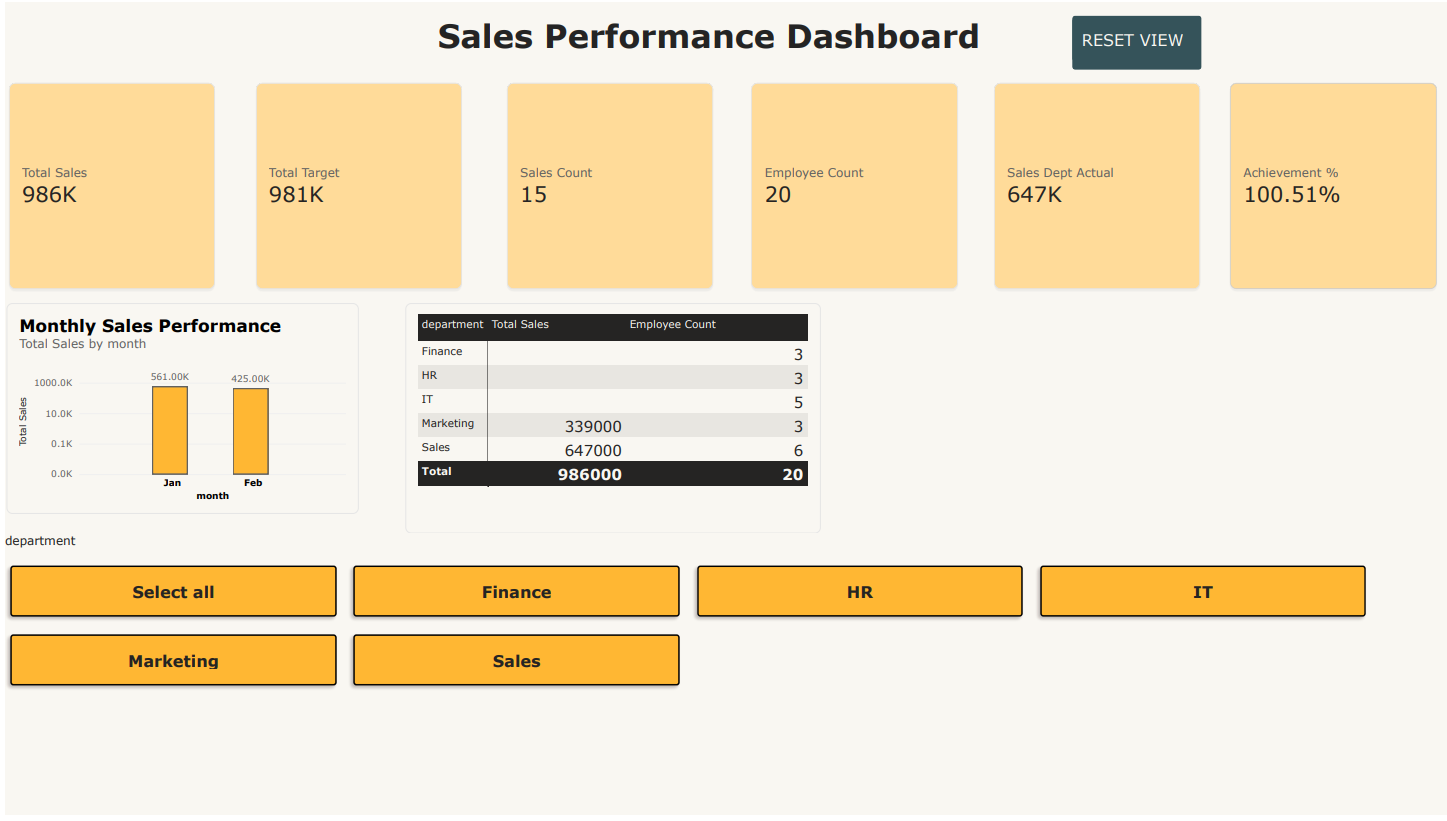

Layout of this report page (visuals, bound fields, positions):
{"tool":"powerbi","page":{"name":"Page 1","canvas":[1920,1080],"ordinal":0},"visuals":[{"type":"cardVisual","fields":{"Data":["sales.Total Sales"]},"box":[1.8,103.6,280,280],"z":0},{"type":"cardVisual","fields":{"Data":["sales.Total Target"]},"box":[330.4,103.6,280,280],"z":1000},{"type":"cardVisual","fields":{"Data":["sales.Sales Count"]},"box":[664.3,103.6,280,280],"z":2000},{"type":"cardVisual","fields":{"Data":["employees.Employee Count"]},"box":[989.3,103.6,280.5,280.5],"z":3000},{"type":"cardVisual","fields":{"Data":["sales.Achievement %"]},"box":[1625,103.6,280,280],"z":4000},{"type":"cardVisual","fields":{"Data":["sales.Sales Dept Actual"]},"box":[1310.7,103.6,280,280],"z":5000},{"type":"clusteredColumnChart","title":"Monthly Sales Performance","fields":{"Category":["sales.month"],"Y":["sales.Total Sales"]},"box":[1.8,400,468.7,280.5],"z":6000},{"type":"pivotTable","fields":{"Rows":["employees.department"],"Values":["sales.Total Sales","employees.Employee Count"]},"box":[532,400,552,306],"z":7000},{"type":"advancedSlicerVisual","fields":{"Values":["employees.department"]},"box":[0,706,1818,210],"z":8000},{"type":"textbox","box":[314.3,17.9,1242.9,85.7],"z":9000},{"type":"actionButton","box":[1418,18,172,72],"z":10000},{"type":"actionButton","box":[1417.9,21.4,160.7,57.1],"z":10001}]}

Visuals, with their boxes in screenshot pixels (x1, y1, x2, y2), scaled from the page's 1920x1080 canvas onto the 1447x821 screenshot:
cardVisual - sales.Total Sales: x1=1, y1=79, x2=212, y2=292
cardVisual - sales.Total Target: x1=249, y1=79, x2=460, y2=292
cardVisual - sales.Sales Count: x1=501, y1=79, x2=712, y2=292
cardVisual - employees.Employee Count: x1=746, y1=79, x2=957, y2=292
cardVisual - sales.Achievement %: x1=1225, y1=79, x2=1436, y2=292
cardVisual - sales.Sales Dept Actual: x1=988, y1=79, x2=1199, y2=292
"Monthly Sales Performance" clusteredColumnChart: x1=1, y1=304, x2=355, y2=517
pivotTable - employees.department x sales.Total Sales: x1=401, y1=304, x2=817, y2=537
advancedSlicerVisual - employees.department: x1=0, y1=537, x2=1370, y2=696
textbox: x1=237, y1=14, x2=1174, y2=79
actionButton: x1=1069, y1=14, x2=1198, y2=68
actionButton: x1=1069, y1=16, x2=1190, y2=60
